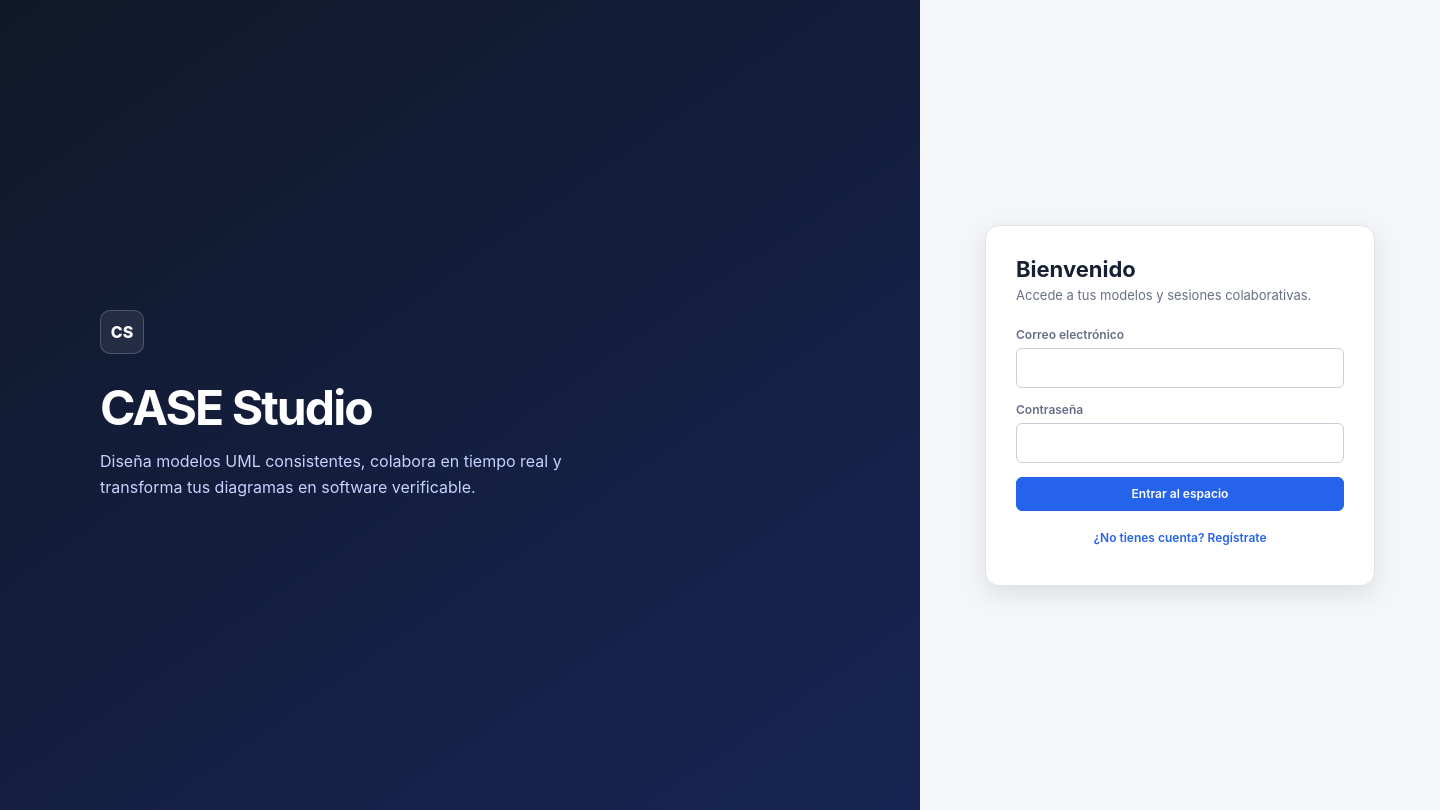
Test: ConnectedApp — identidad y sesión (P10-009) › restaura fallida → login → lista de diagramas → abrir diagrama
Type "dev@case.local" into the field with test id "login-email-input".
click(1180, 368); type("dev@case.local")  # box [1016,348,1344,388]
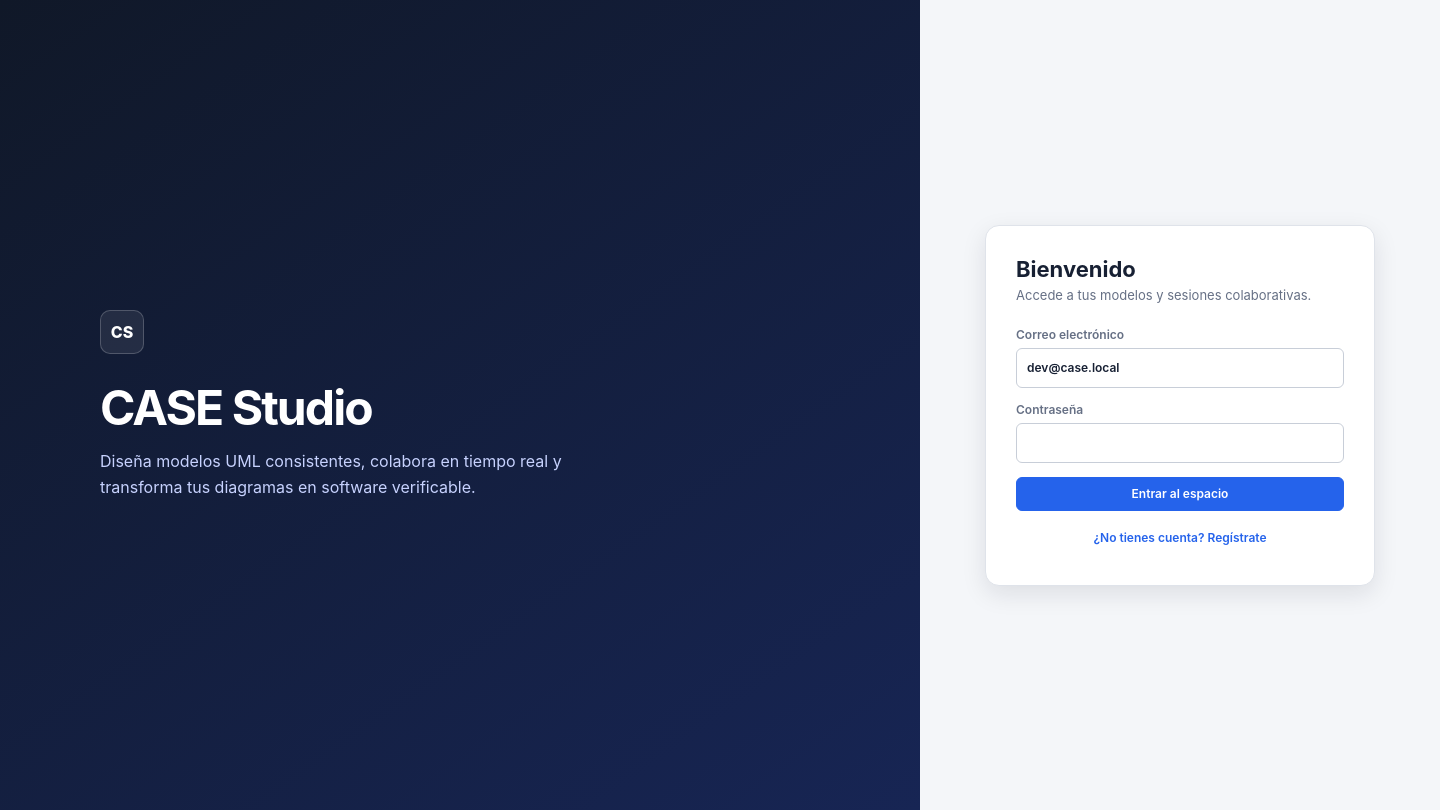
Type "secret-secret" into the password field with test id "login-password-input".
click(1180, 442); type("secret-secret")  # box [1016,422,1344,462]
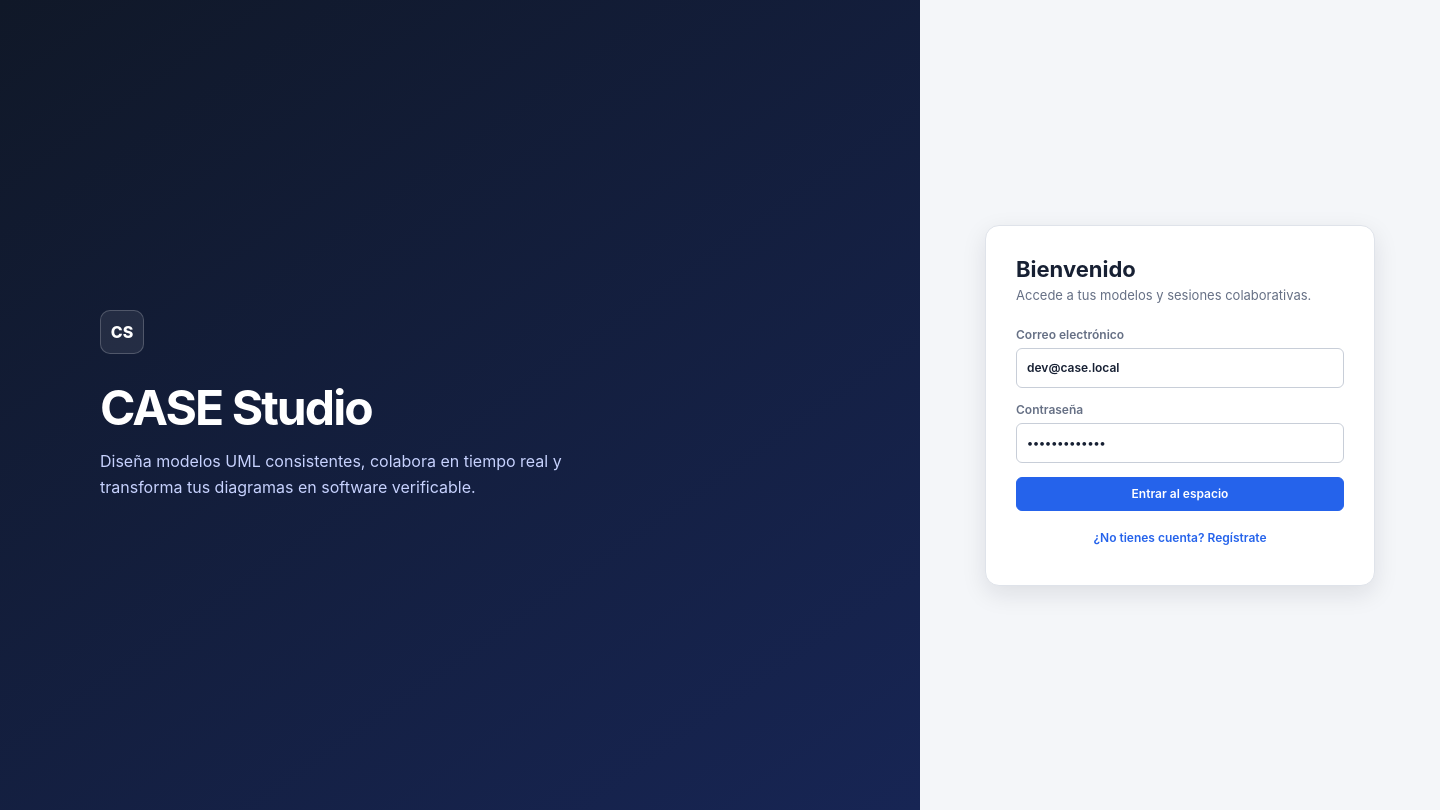
Click the button with test id "login-submit".
click(1180, 494)  # box [1016,476,1344,510]
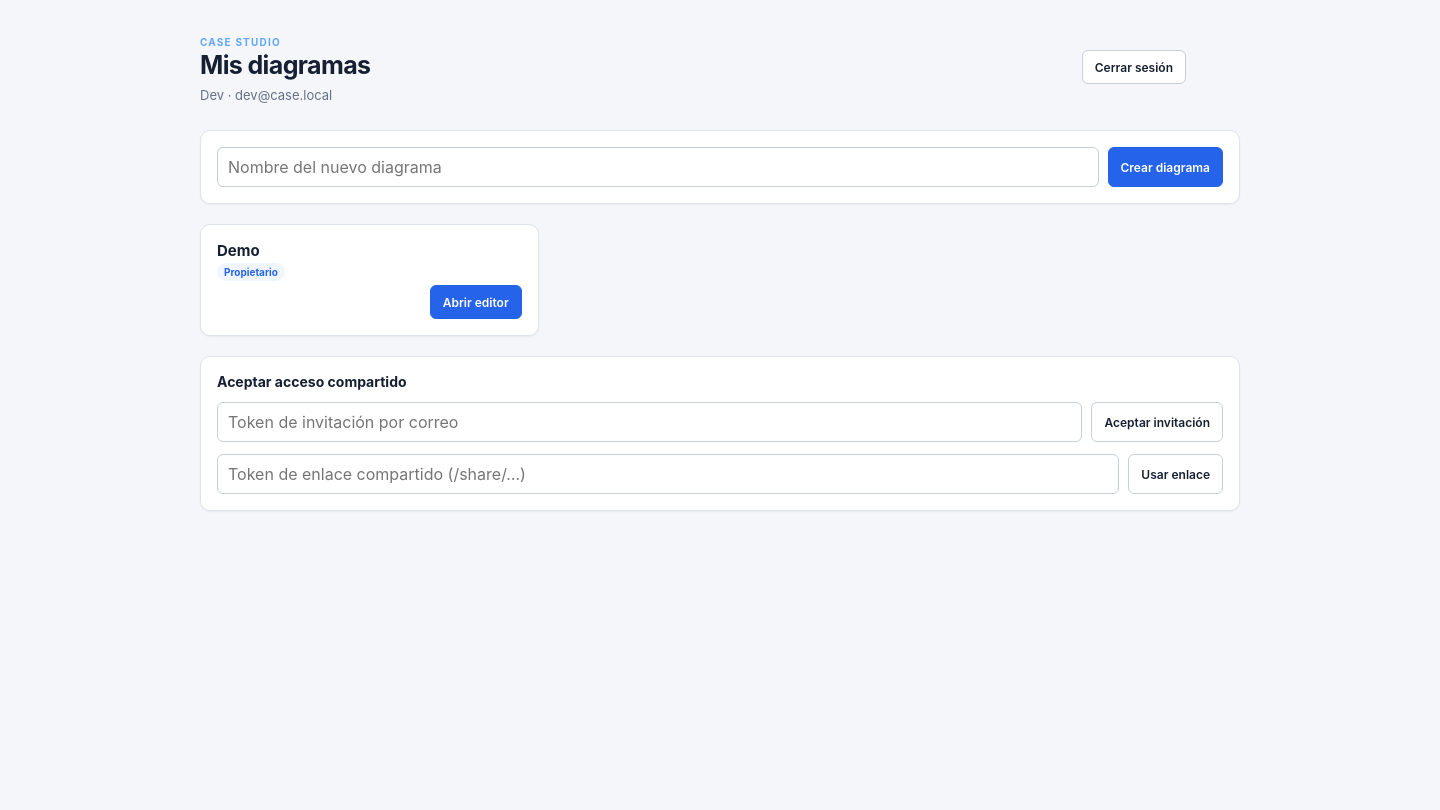
Check: the element with test id "diagram-home" is shown
Check: the text with test id "current-user" shows "dev@case.local", box [235,87,332,103]
